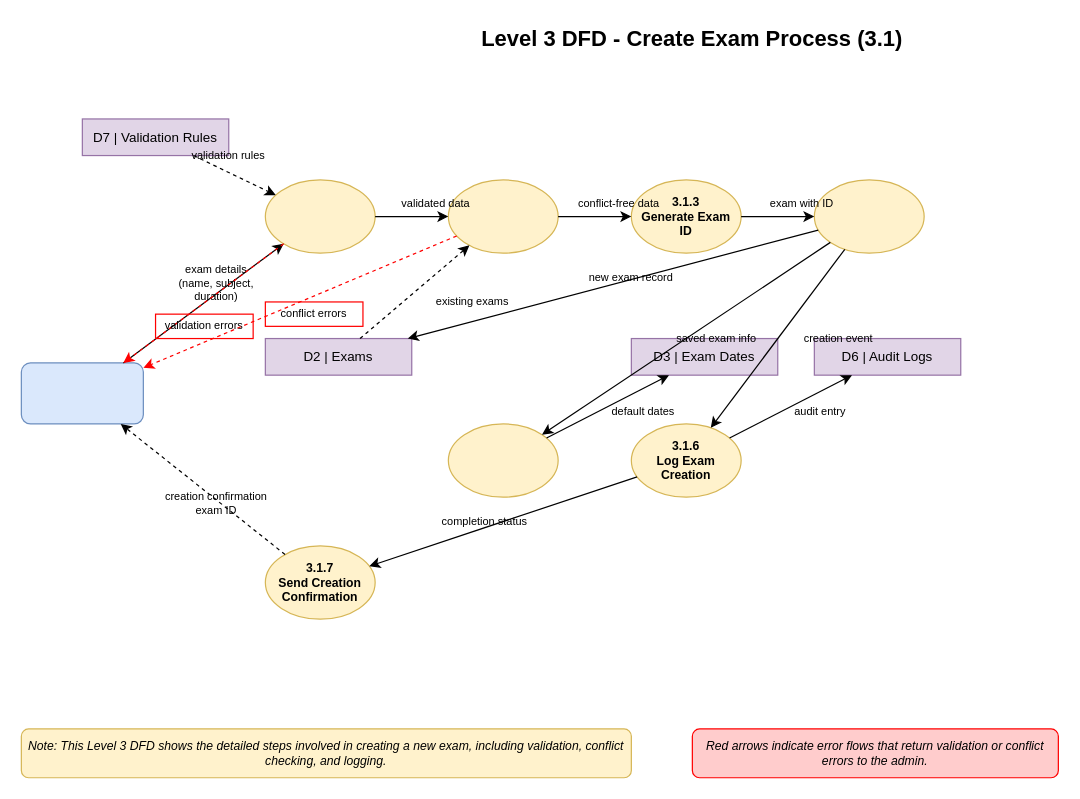
Image size: 1080x799. Some labels were removed from this diagram. Here are the shapes that lost their labels. From the top down, the centre of each, then its label:
At (x=319, y=216): "3.1.1 Validate Exam Details".
At (x=502, y=216): "3.1.2 Check Exam Conflicts".
At (x=868, y=216): "3.1.4 Save Exam Record".
At (x=81, y=393): "Admin".
At (x=502, y=460): "3.1.5 Create Default Exam Dates".
